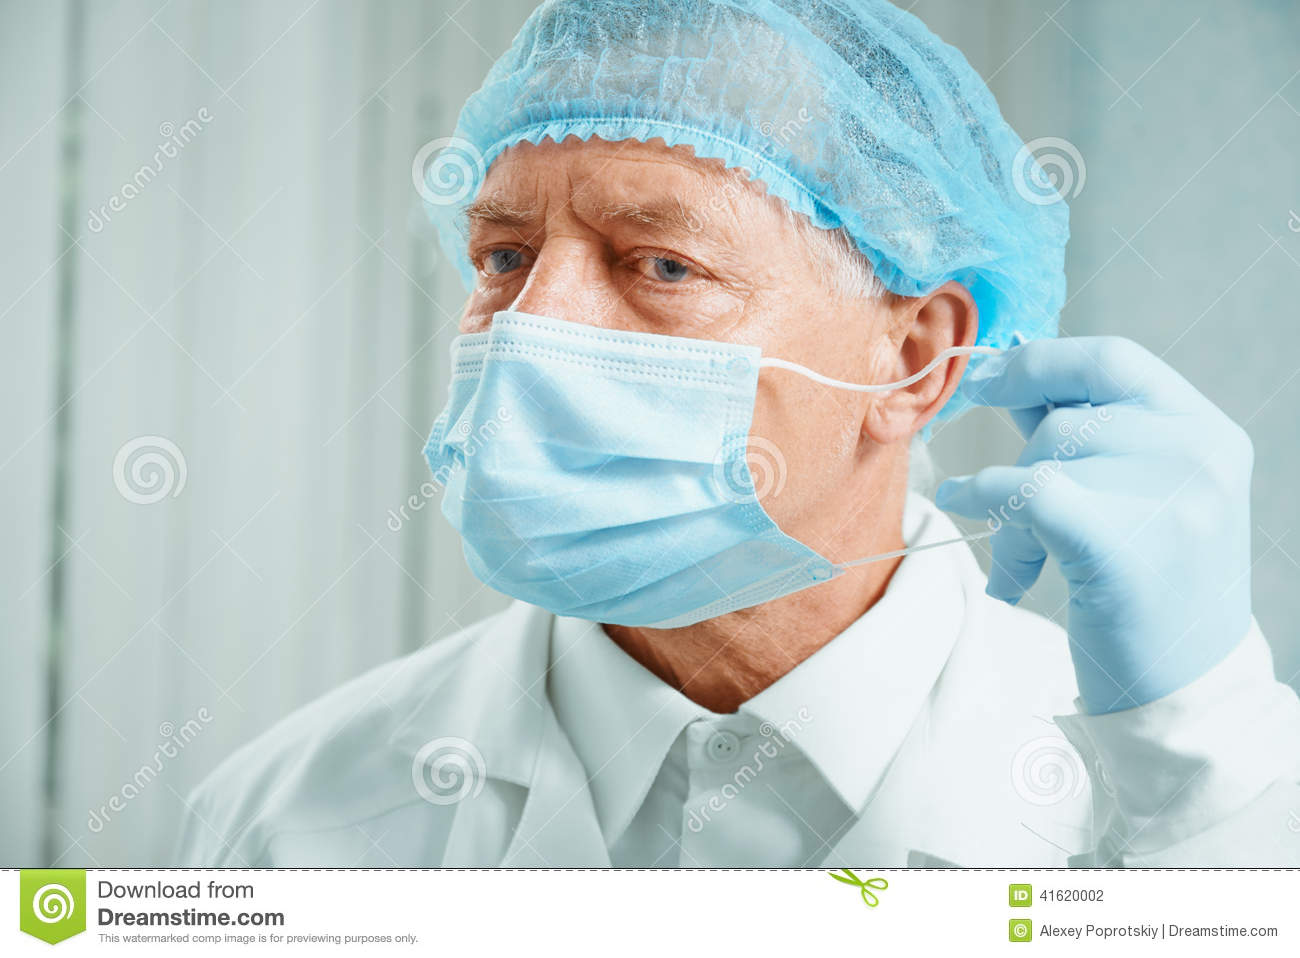mask: (423, 326, 813, 621)
